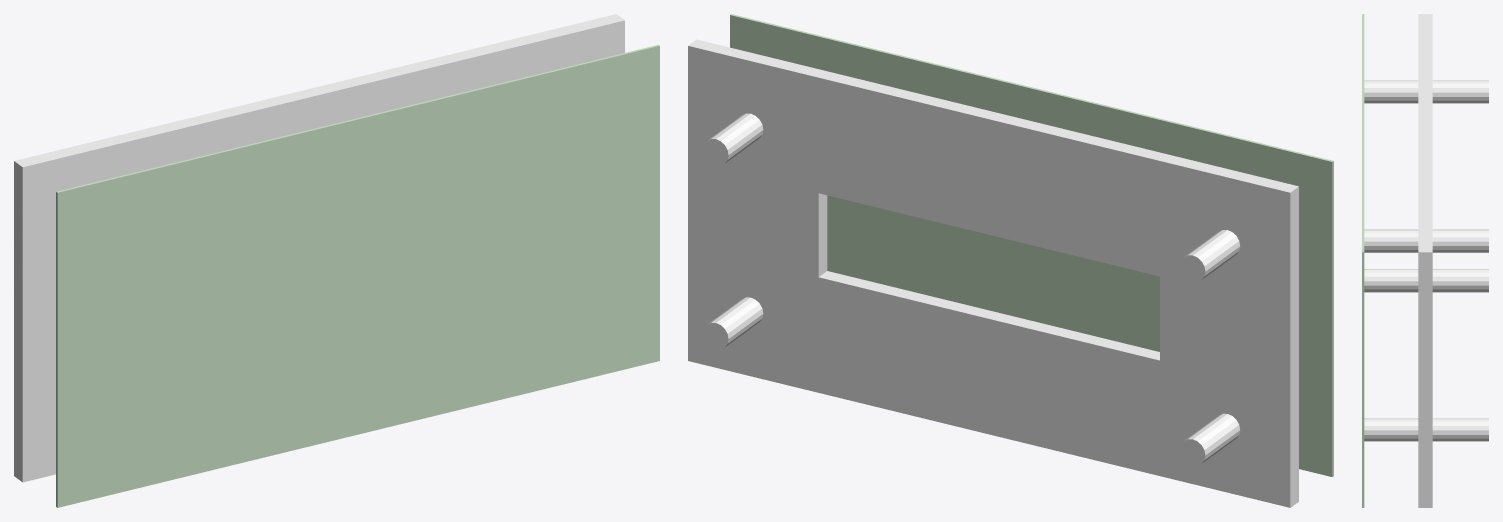
3 views of the same model, side by side, from view 1: azimuth 30°, elevation 25°; view 2: azimuth 150°, elevation 25°; view 3: azimuth 270°, elevation 25° (orthographic). The views are drawn at different scales.
Visible parts, largest first — view 1: hokkaido large coffee table by smart furniture; view 2: hokkaido large coffee table by smart furniture; view 3: hokkaido large coffee table by smart furniture.
Boxes of the visible parts, <box> form: hokkaido large coffee table by smart furniture: <box>14,14,659,507</box>; hokkaido large coffee table by smart furniture: <box>688,14,1333,507</box>; hokkaido large coffee table by smart furniture: <box>1362,14,1488,507</box>.
Bounding box in the file's own units: 60 × 30 × 13.5.
